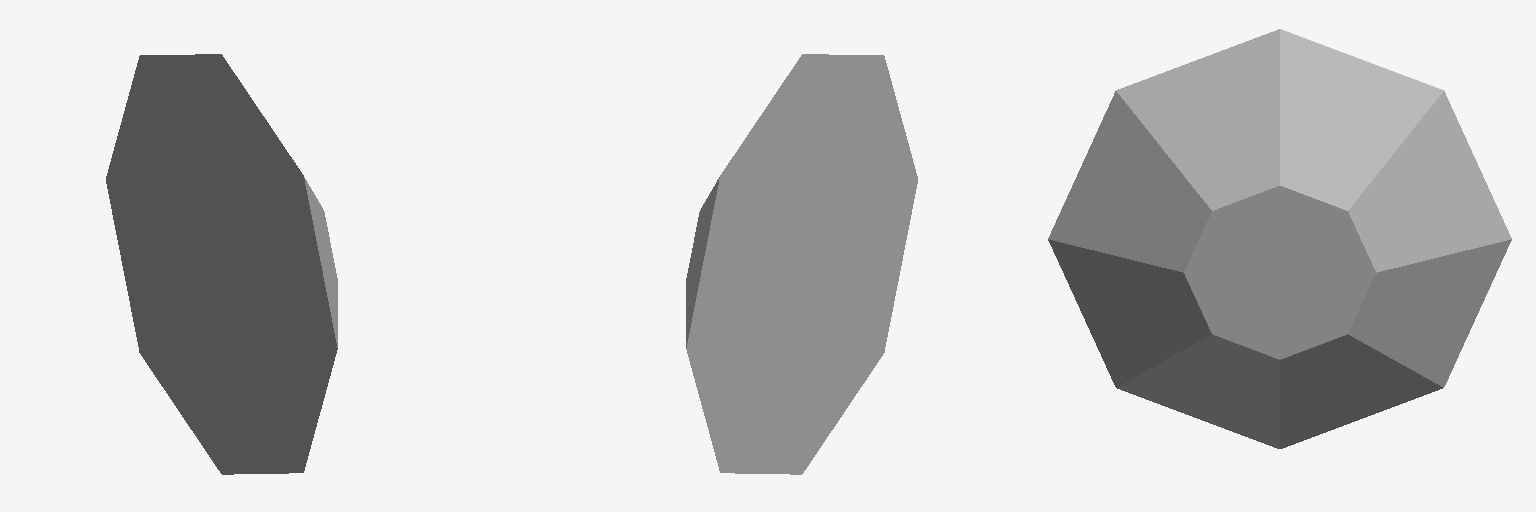
The model's file is thargoid.obj.
3 views of the same model, side by side, from view 1: azimuth 30°, elevation 25°; view 2: azimuth 150°, elevation 25°; view 3: azimuth 270°, elevation 25° (orthographic).
Parts seen in each view (by area): view 1: obj1.005; view 2: obj1.005; view 3: obj1.005.
Boxes of the visible parts, <box> form: obj1.005: <box>106,54,337,474</box>; obj1.005: <box>686,54,917,474</box>; obj1.005: <box>1048,29,1511,448</box>.
Bounding box in the file's own units: 56 × 328 × 328.